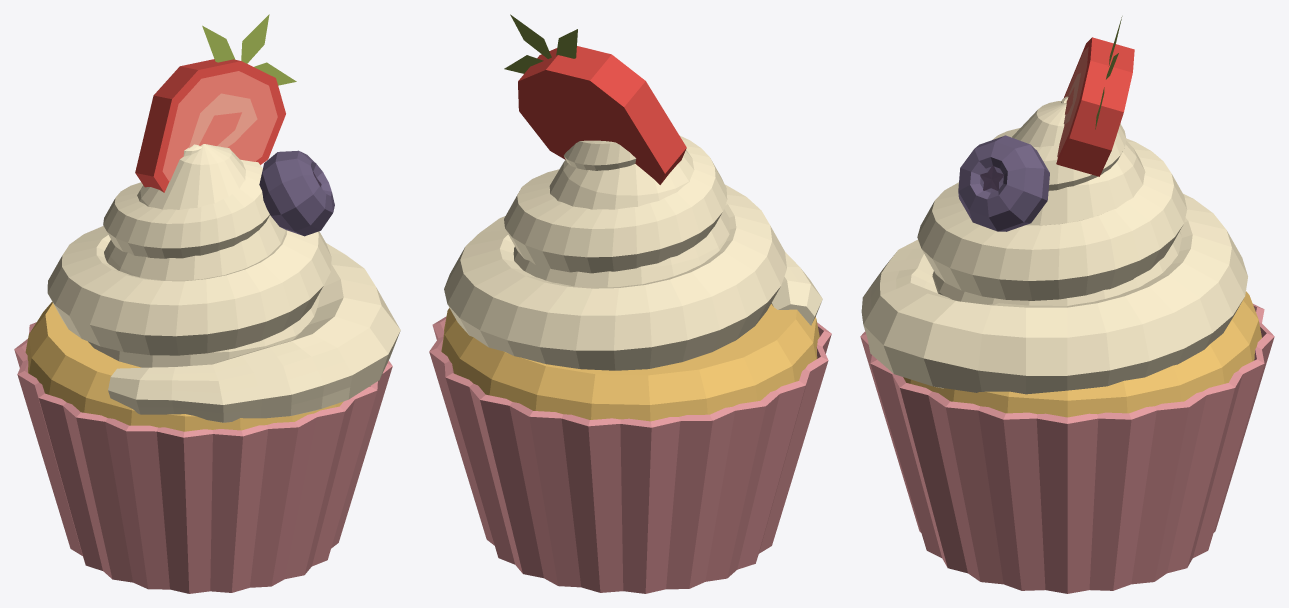
Rendered from 16-strawberry-cupcake.glb.
3 renders of one model, left to right at view 1: azimuth 30°, elevation 25°; view 2: azimuth 150°, elevation 25°; view 3: azimuth 270°, elevation 25°, orthographic. The views are drawn at different scales.
Visible parts, largest first — view 1: Blueberry star crown; view 2: Blueberry star crown; view 3: Blueberry star crown.
Boxes of the visible parts, <box> form: Blueberry star crown: <box>14,14,400,593</box>; Blueberry star crown: <box>429,14,831,593</box>; Blueberry star crown: <box>860,16,1274,593</box>.
Size of the model in its own units: 1.82 by 2.57 by 1.82.
